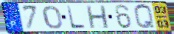6: (114, 4, 133, 30)
7: (22, 4, 39, 31)
H: (85, 5, 111, 30)
L: (66, 5, 87, 30)
O: (42, 5, 64, 30)
Q: (133, 3, 157, 31)
